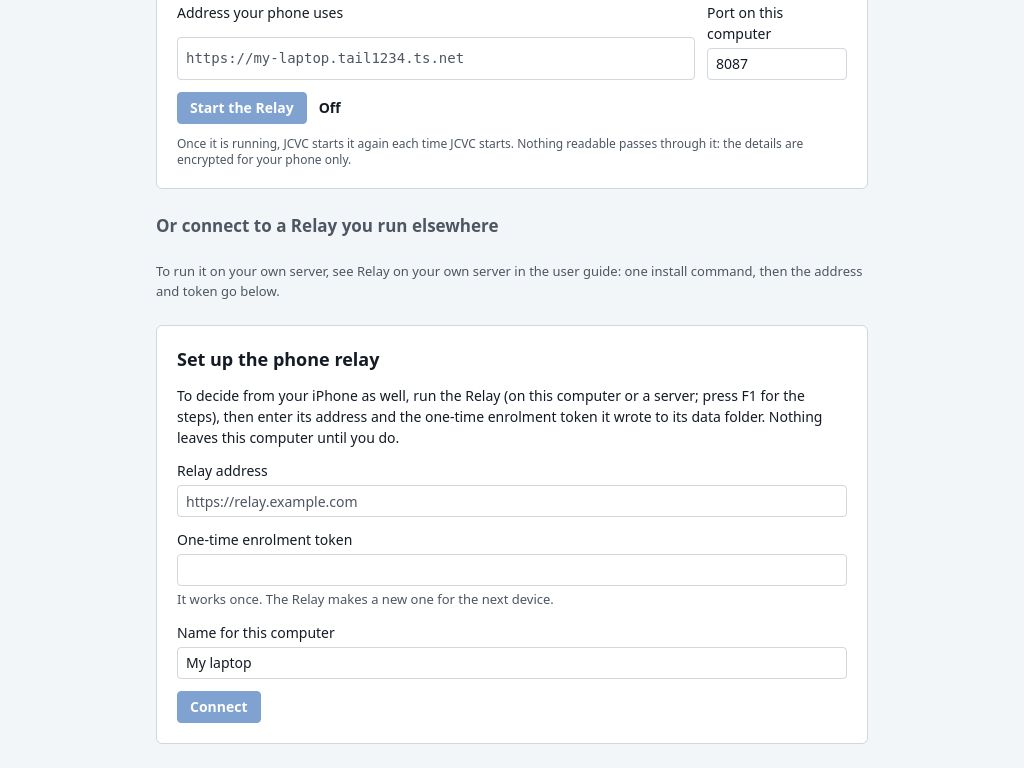
Devices page › asks for the Relay address and the one-time token before anything else, and shows the Relay's refusal
The width and height of the screenshot is (1024, 768).
(page scrolled)
Type "https://gh.example.com" into the field labelled "Relay address" at x=512, y=501, box top-left (177, 485), bottom-right (847, 517)
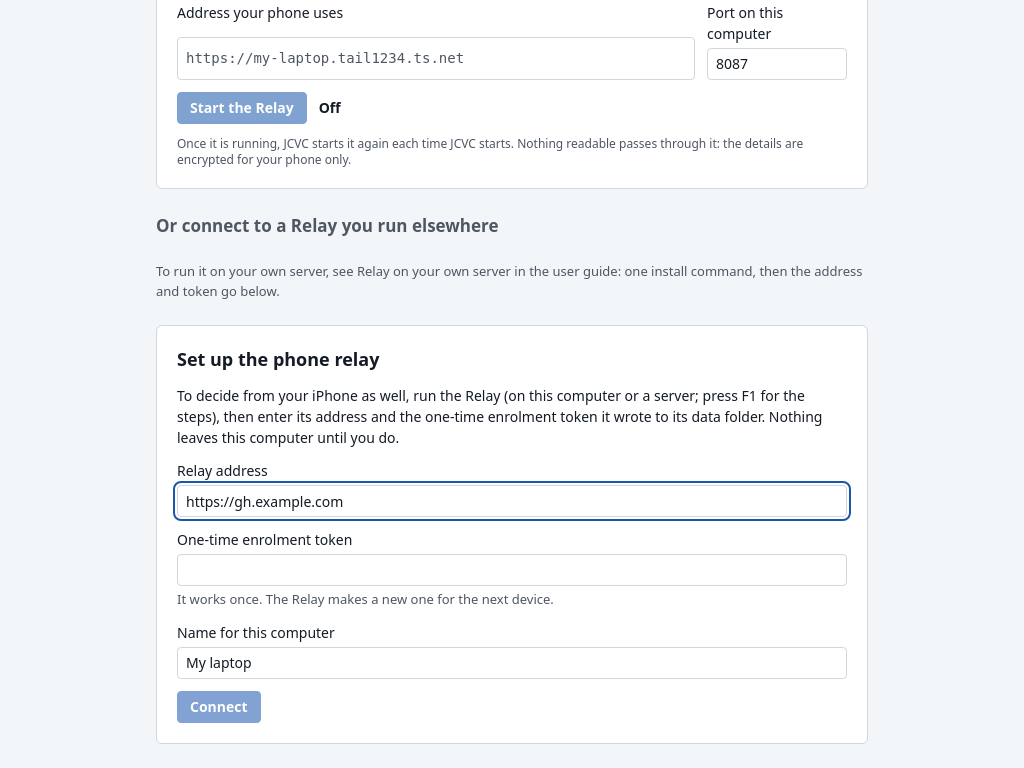
Expected: the button "Connect" is disabled, top-left (177, 691), bottom-right (260, 723)
Type "abc123" into the field labelled "One-time enrolment token" at x=512, y=570, box top-left (177, 554), bottom-right (847, 586)
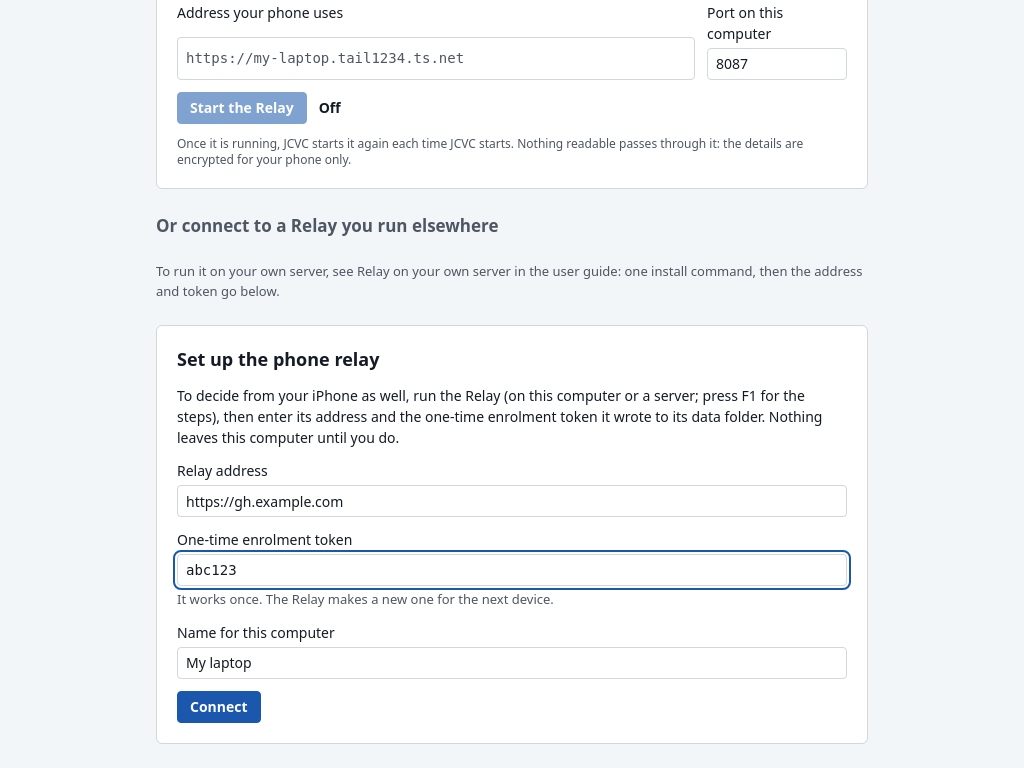
Click the button "Connect" at x=219, y=707, box top-left (177, 691), bottom-right (260, 723)
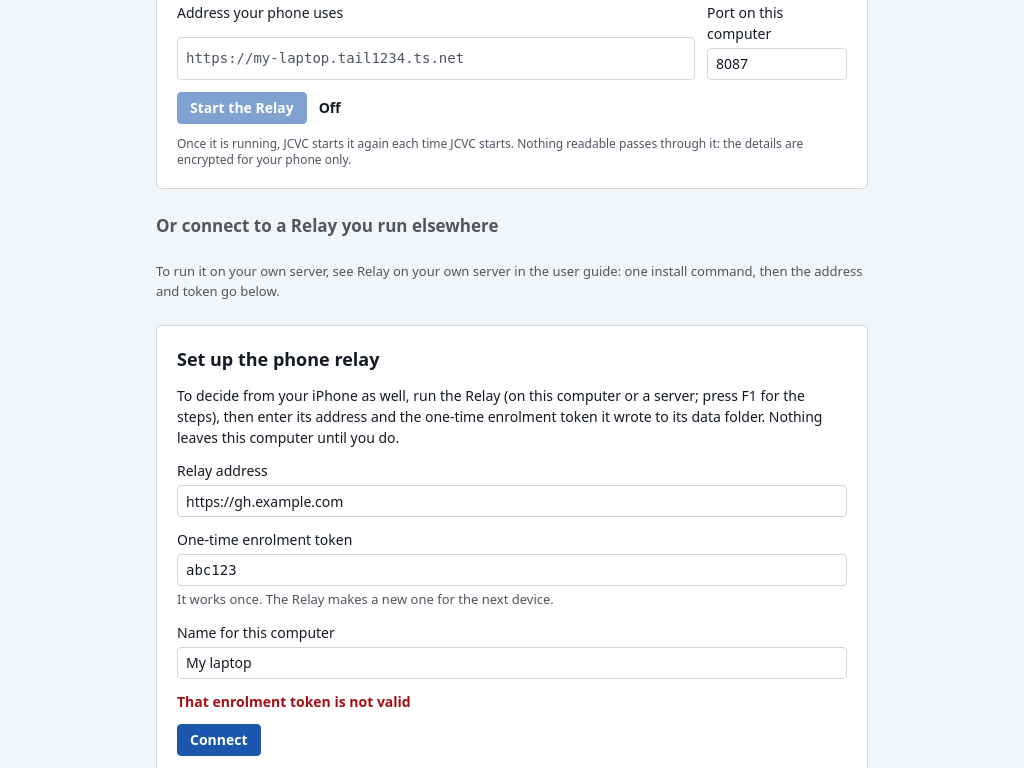
Expected: the message shows "not valid", top-left (177, 692), bottom-right (411, 711)
